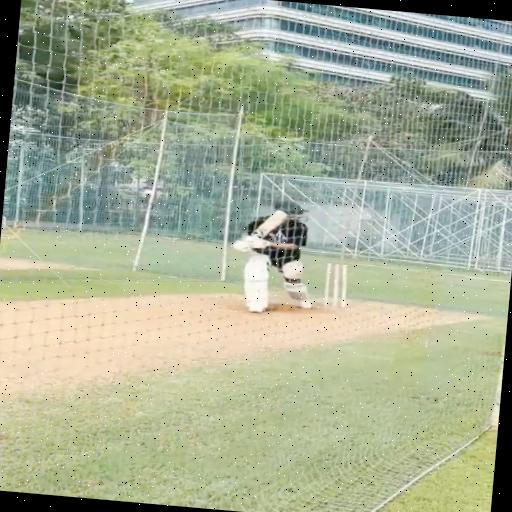Cricket bat: (252, 211, 287, 238)
